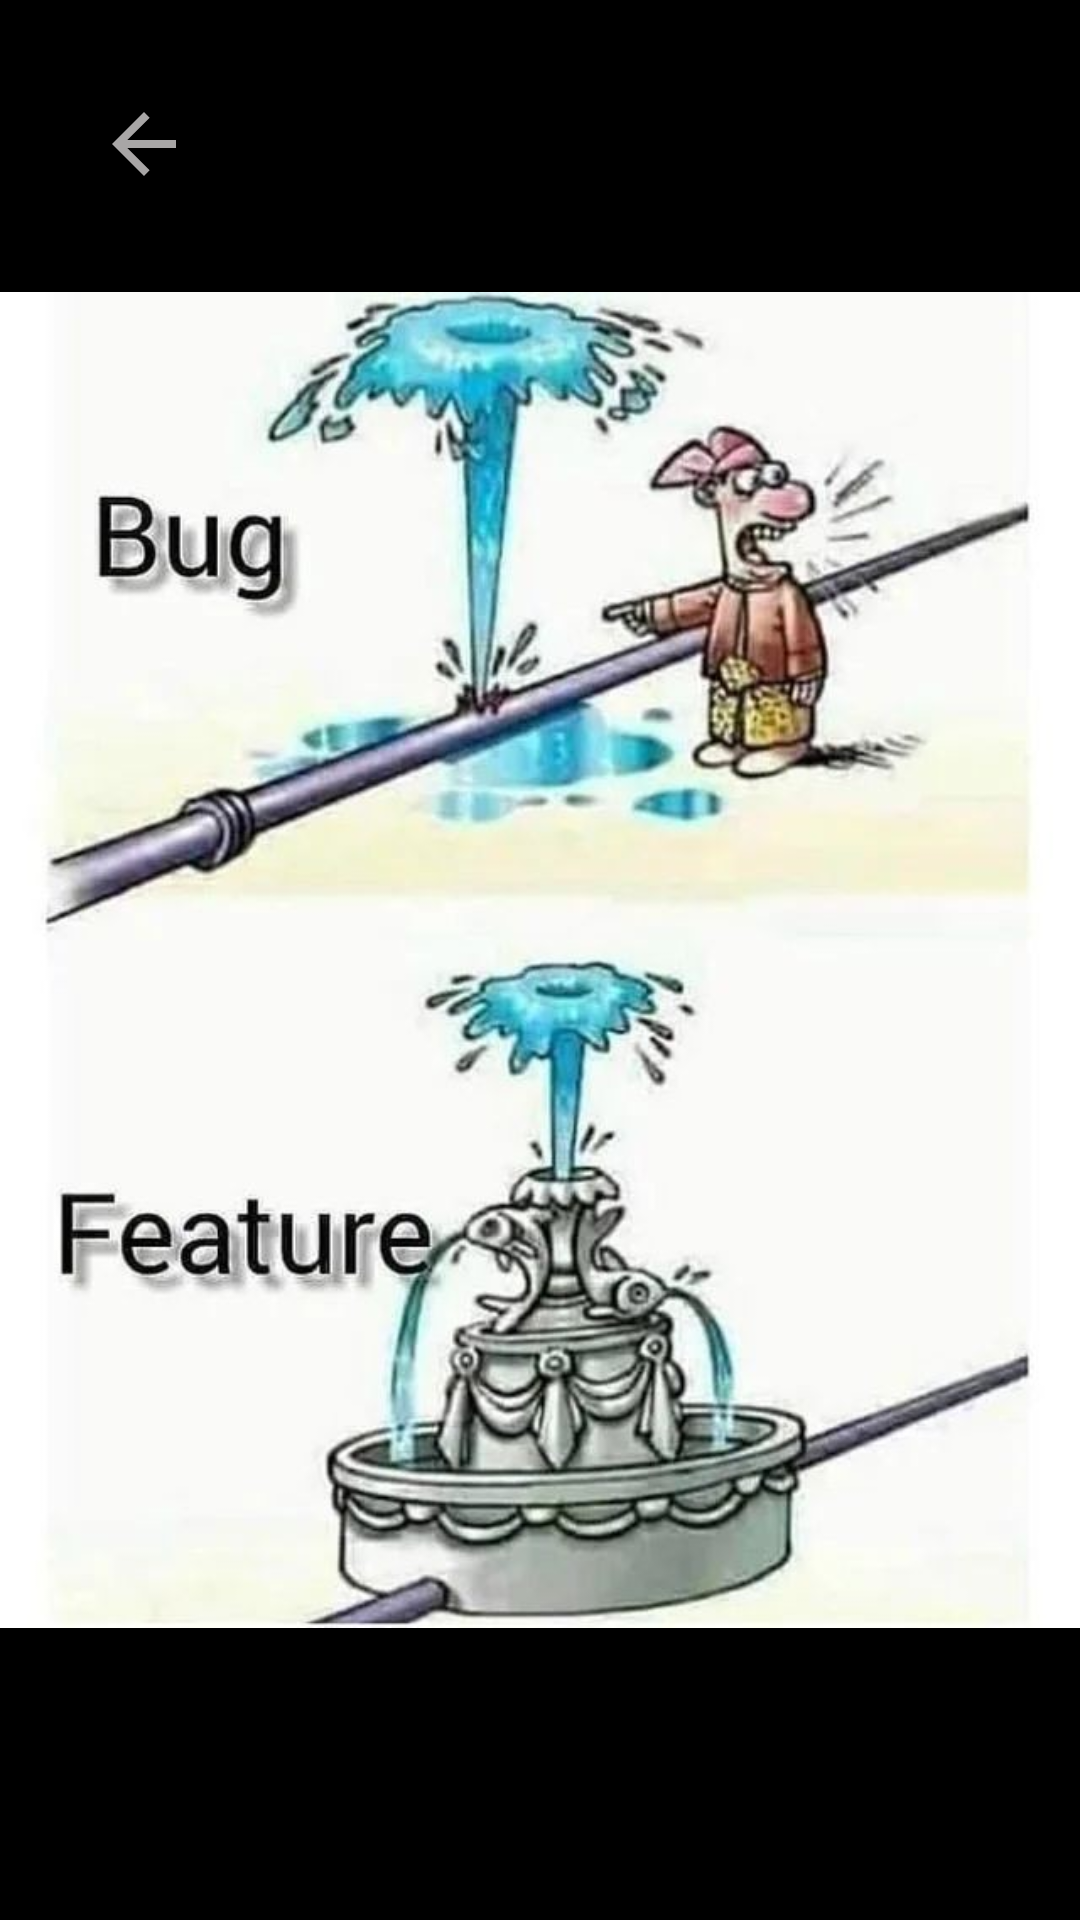

Where to tap for icons on this 1080w x 1920h app screen, as point (x, y):
arrow back: point (144, 144)
